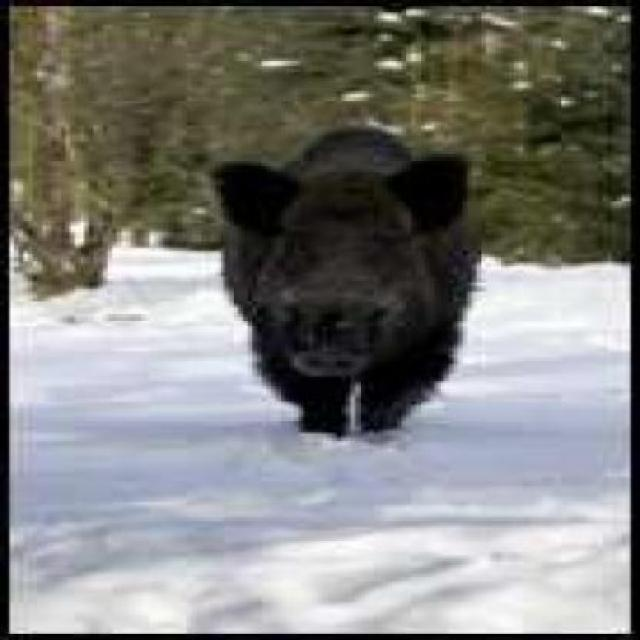pig: (186, 118, 491, 474)
